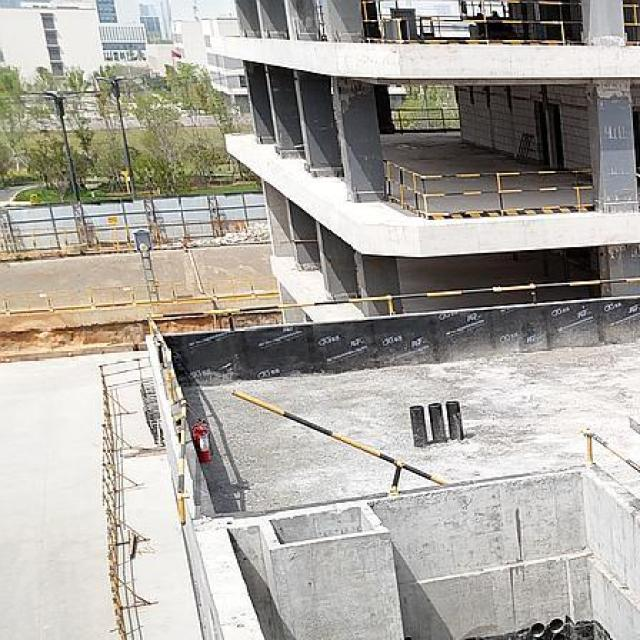Guardrail: (145, 274, 640, 528), (232, 390, 444, 496), (382, 158, 598, 219), (360, 0, 586, 46), (585, 426, 640, 474), (390, 107, 460, 134), (621, 4, 640, 46)
